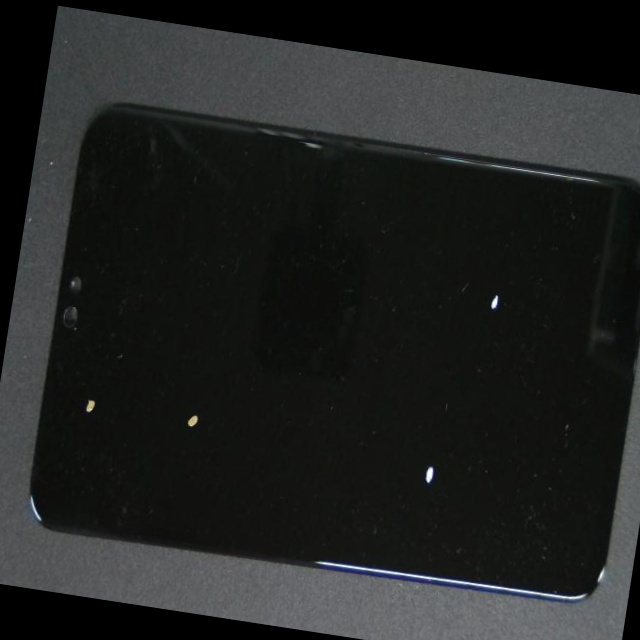stain: (195, 214, 640, 640), (242, 110, 640, 426), (85, 200, 339, 602), (43, 180, 184, 563)
